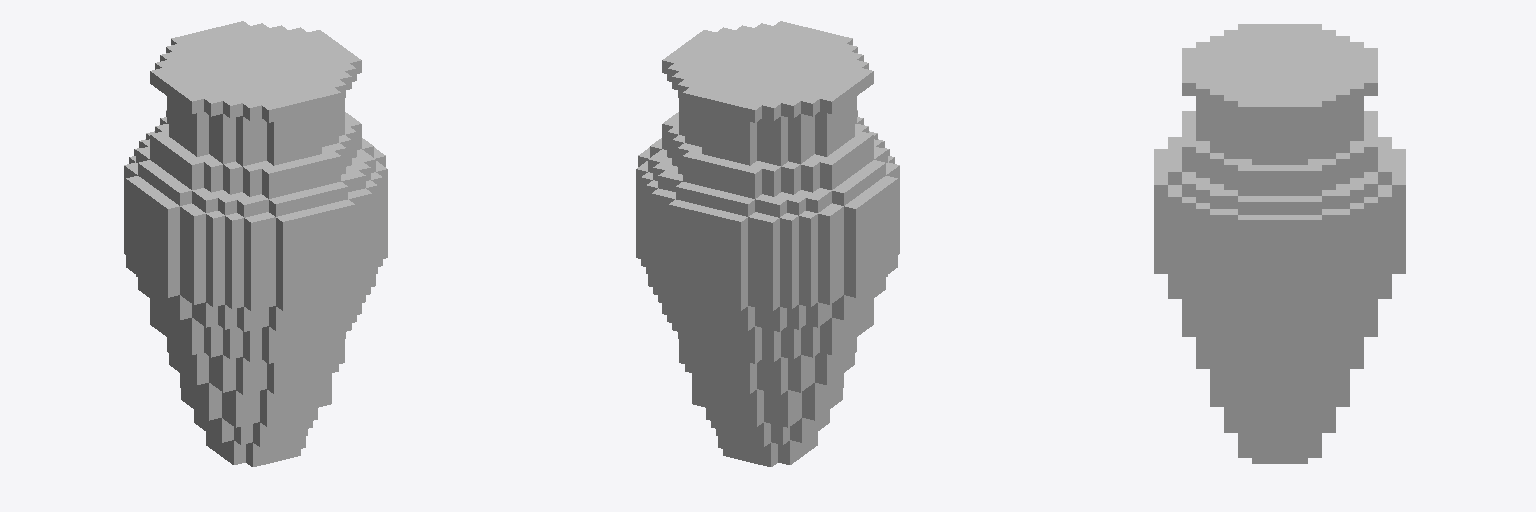
File: body2.obj
The picture shows the model from 3 angles: view 1: azimuth 30°, elevation 25°; view 2: azimuth 150°, elevation 25°; view 3: azimuth 270°, elevation 25°; orthographic projection.
Parts seen in each view (by area): view 1: object 1; view 2: object 1; view 3: object 1.
Boxes of the visible parts, <box> form: object 1: <box>124,21,387,466</box>; object 1: <box>636,21,899,466</box>; object 1: <box>1154,24,1405,463</box>.
Bounding box in the file's own units: 1.8 × 3 × 1.8.